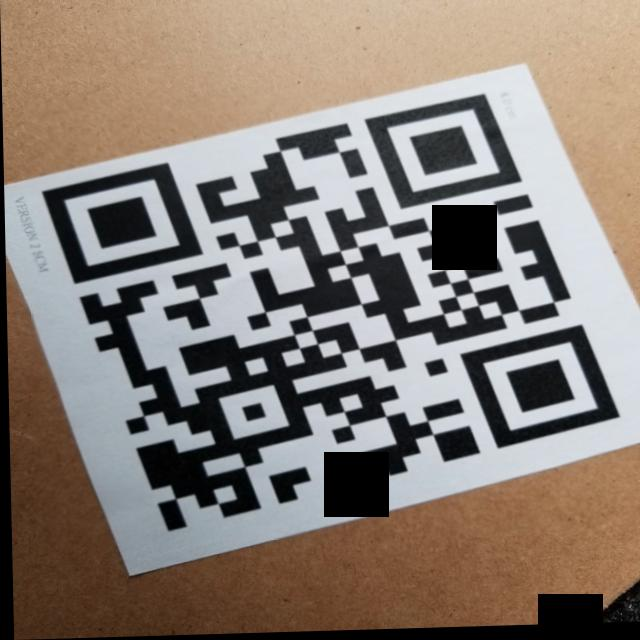QR_CODE: (26, 84, 636, 548)
